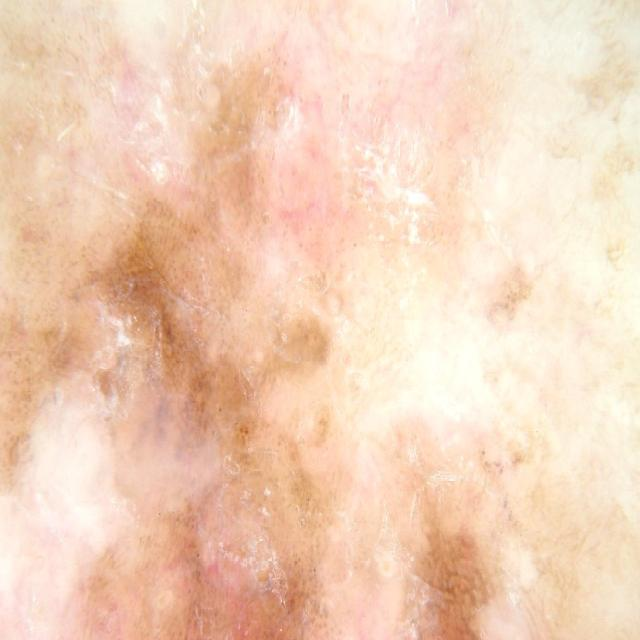Melanoma: (49, 190, 568, 640)
